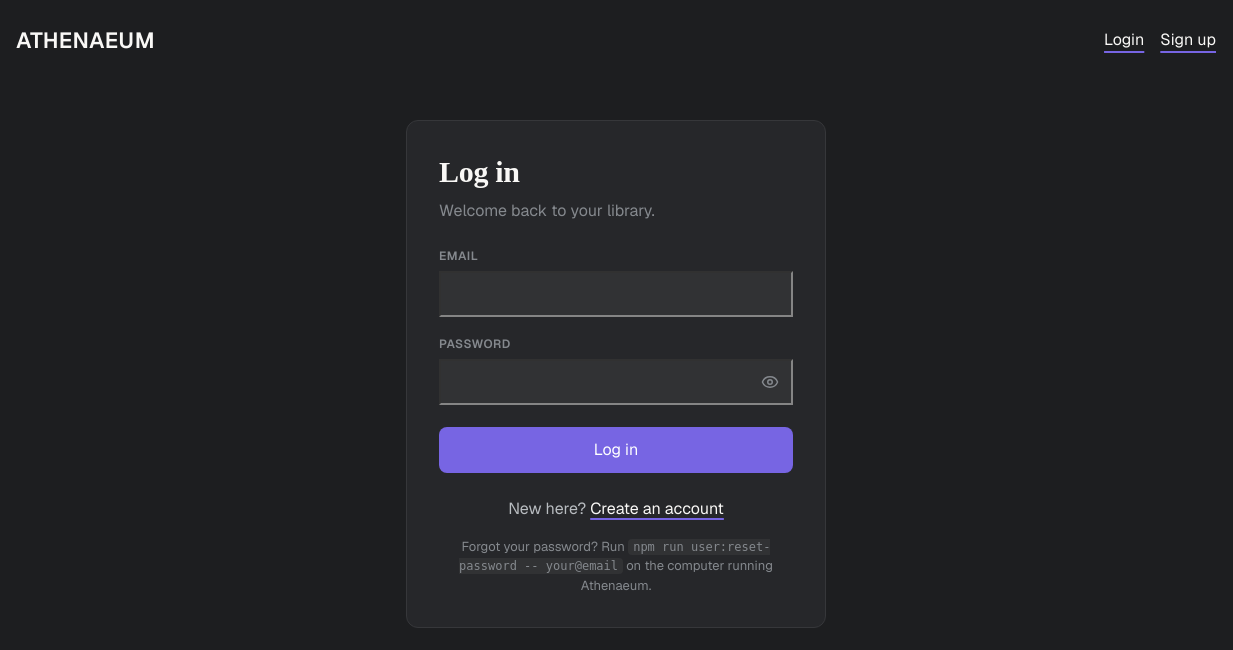
Test case: login › lands on the shelf after a successful login
This screenshot has width=1233, height=650.
Type "reader@example.com" into the field labelled "Email".
click(616, 294); type("reader@example.com")  # box [439,270,793,316]
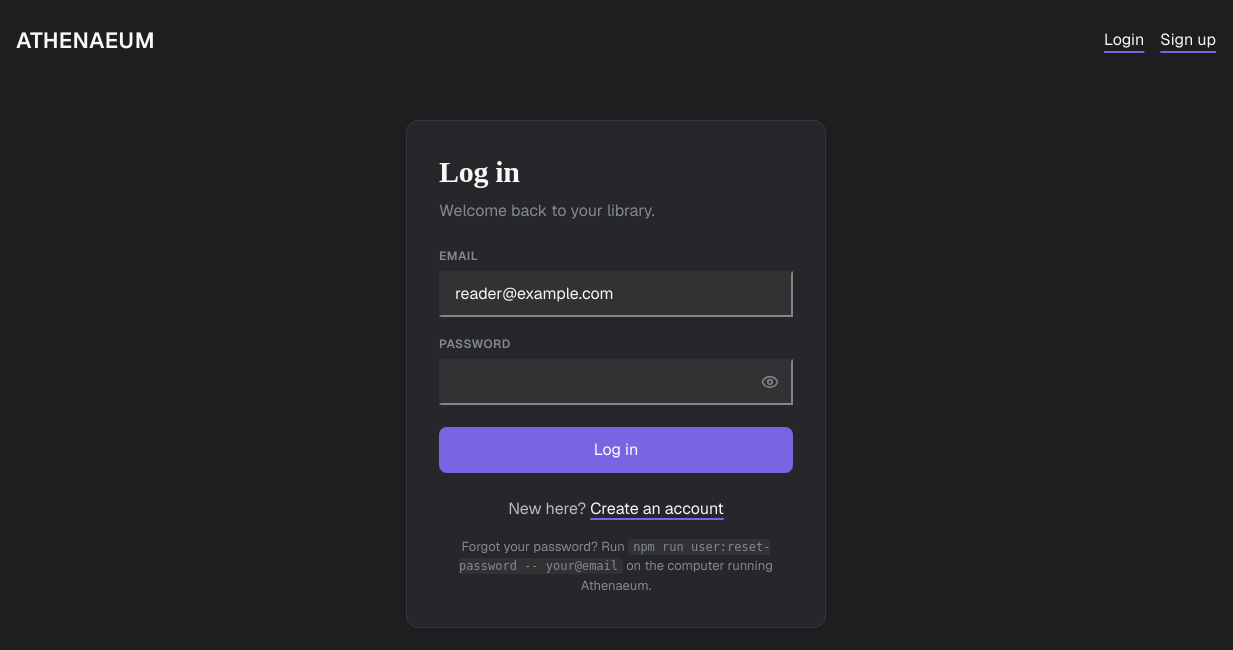
Type "correct horse" into the password field labelled "Password".
click(616, 382); type("correct horse")  # box [439,358,793,404]
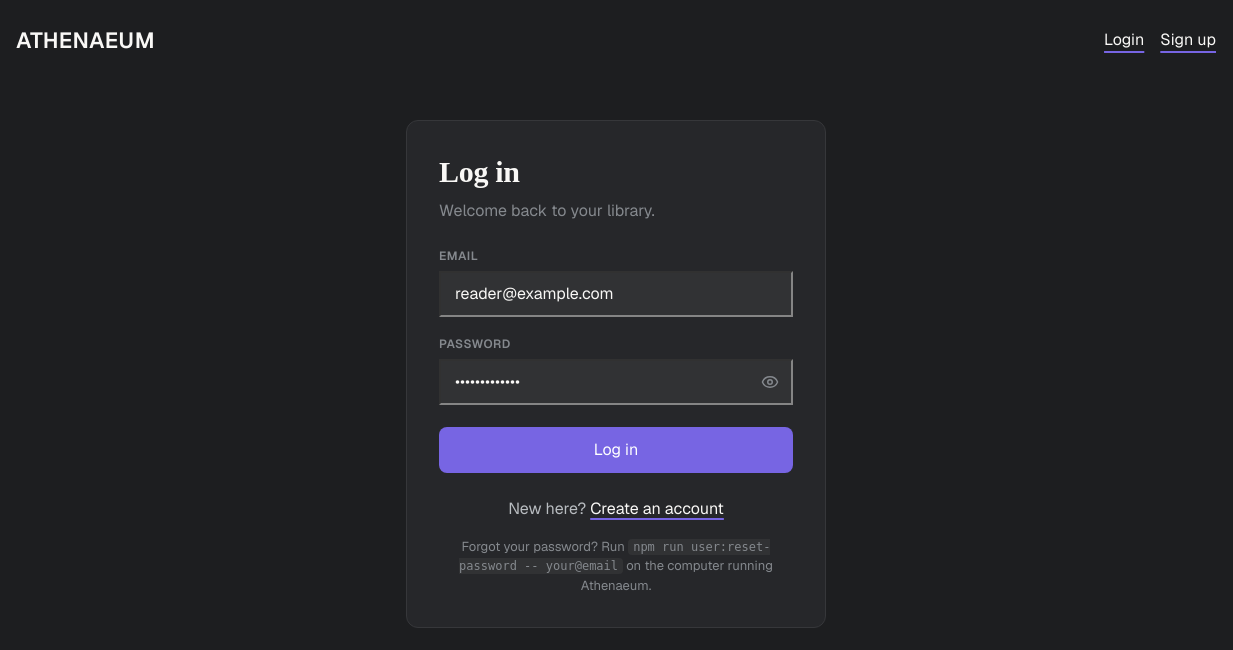
Click the button "Log in".
click(616, 450)  # box [439,426,793,472]
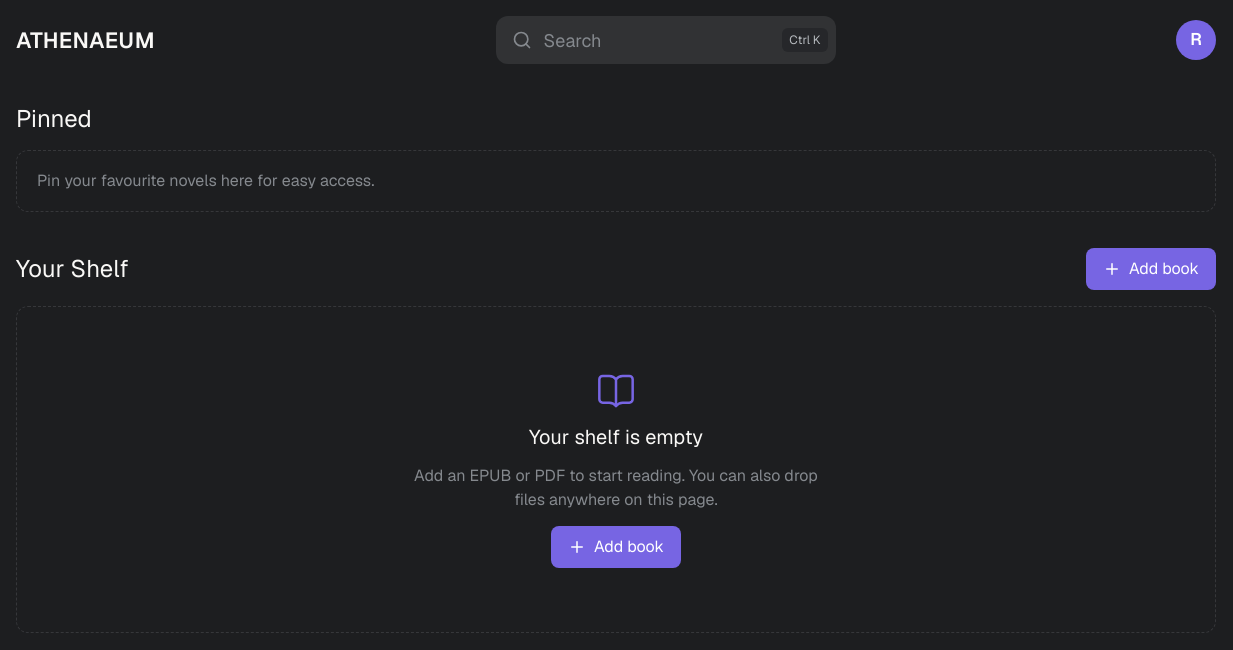
Expected: the button named "Account menu" reads "R", [1176,20,1216,60]
Now the heading "Your shelf is empty" is shown, box [529,425,703,450]
